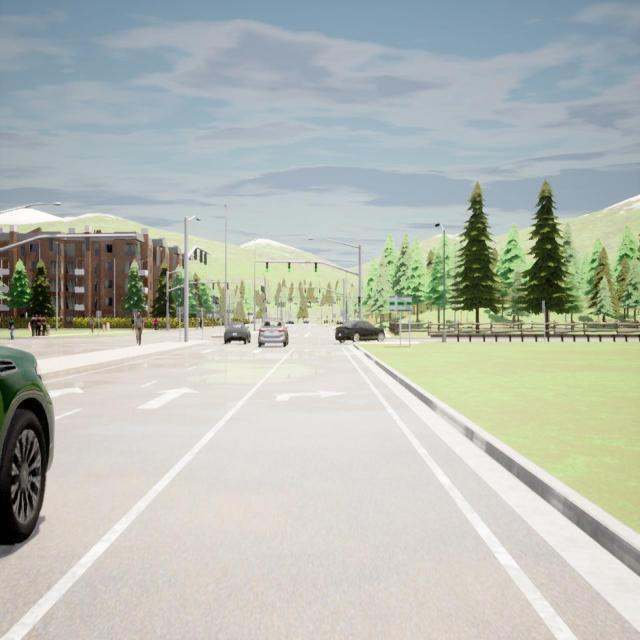Pedestrian: (134, 311, 144, 346), (8, 315, 15, 340), (30, 314, 37, 337), (90, 316, 95, 334), (42, 314, 46, 336), (37, 314, 41, 336), (153, 316, 159, 330), (131, 316, 135, 332), (199, 316, 203, 329), (48, 324, 51, 336), (46, 323, 48, 335)
Traffic_Signs: (389, 296, 412, 312), (176, 306, 184, 318), (96, 311, 102, 318)
Vehicle: (0, 347, 54, 546), (334, 320, 386, 344), (258, 318, 289, 347), (223, 322, 251, 345), (341, 310, 345, 316), (289, 320, 294, 324), (304, 320, 308, 324)
traffic_light: (194, 247, 197, 260), (358, 296, 361, 307), (200, 249, 202, 263), (204, 252, 206, 265), (266, 262, 268, 272), (288, 262, 290, 272), (315, 262, 317, 272), (226, 282, 228, 290), (262, 286, 264, 292), (212, 283, 214, 289), (195, 283, 197, 289), (304, 288, 306, 293), (265, 307, 267, 312), (261, 285, 262, 291), (319, 288, 320, 293), (264, 287, 264, 293)
